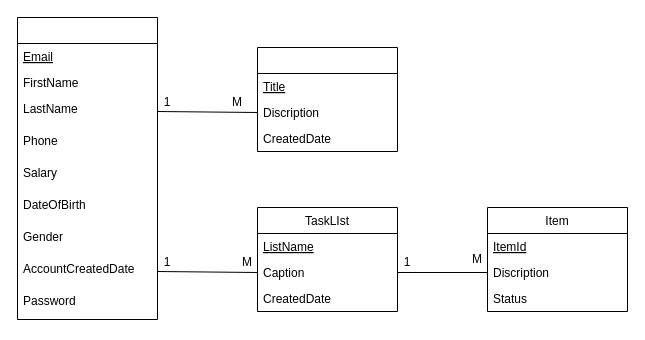
Some shapes in this 645 by 340 pixel diagram are drawn without their labels. Here are the shapes that lost their labels. From the top down, the box of each, then its label:
(256, 46, 398, 152): Notes
(16, 16, 158, 320): Employee
